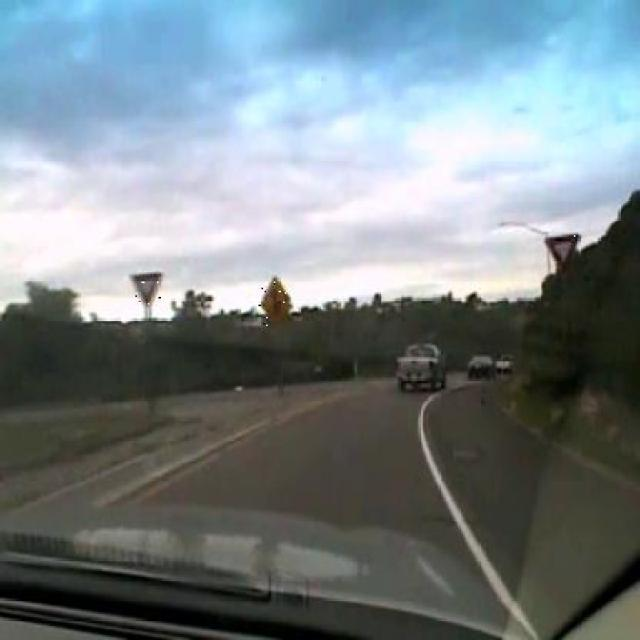merge: (259, 275, 291, 328)
yield: (543, 234, 580, 274), (128, 269, 162, 307)
